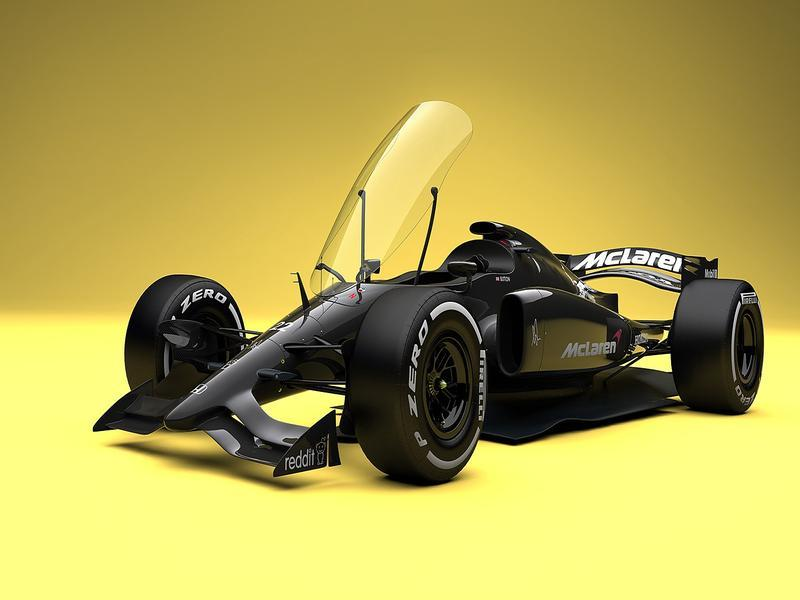f1: (103, 85, 774, 497)
